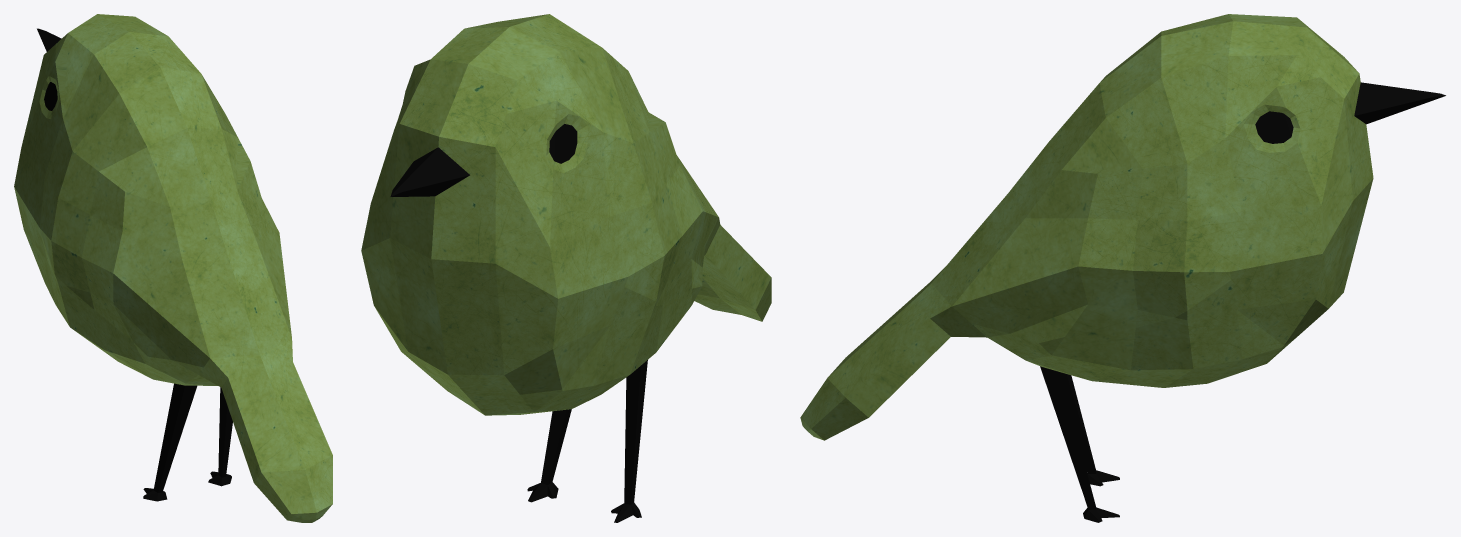
File: OroPajaro.fbx
The picture shows the model from 3 angles, left to right: view 1: azimuth 30°, elevation 25°; view 2: azimuth 150°, elevation 25°; view 3: azimuth 270°, elevation 25°; orthographic projection. The views are drawn at different scales.
Parts seen in each view (by area): view 1: Cube; view 2: Cube; view 3: Cube.
Boxes of the visible parts, x1,y1,x2,y2 form: Cube: [14, 14, 332, 522]; Cube: [361, 14, 771, 522]; Cube: [800, 14, 1445, 522].
Size of the model in its own units: 148 by 294 by 361.
